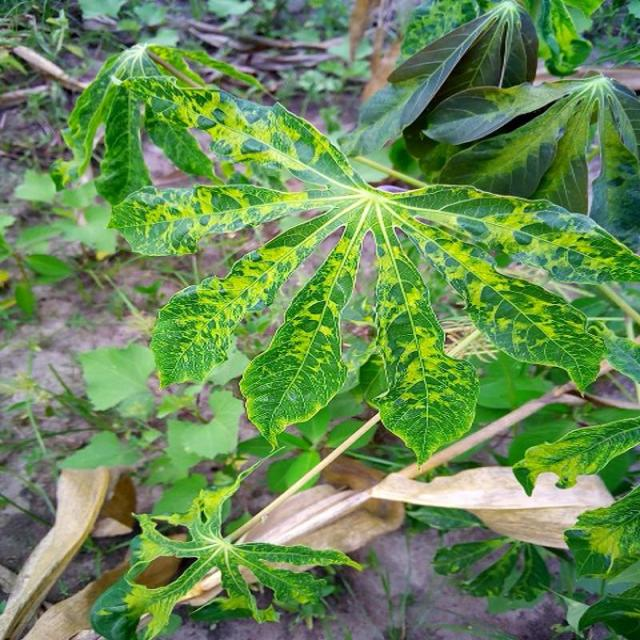cassava leaf: (64, 19, 639, 470)
